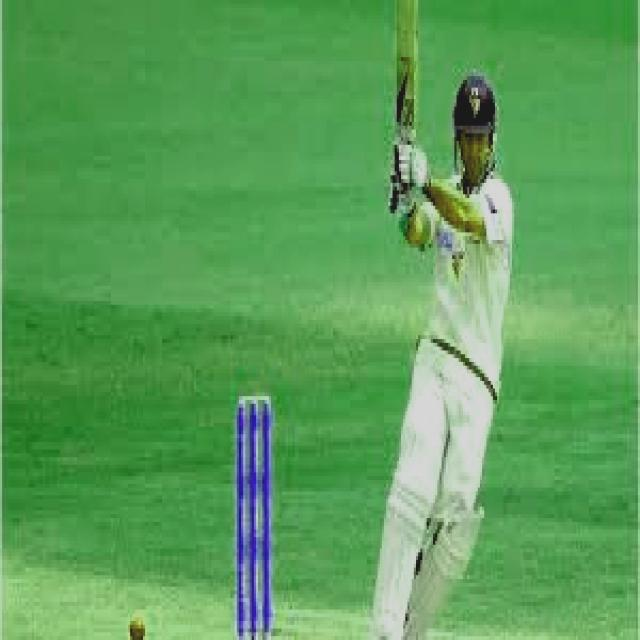toe: (397, 0, 419, 8)
